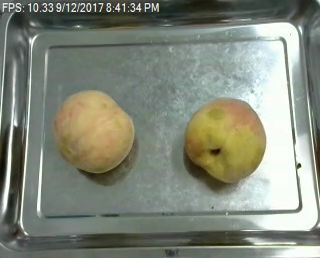Peach: (182, 96, 265, 184), (53, 88, 135, 173)
